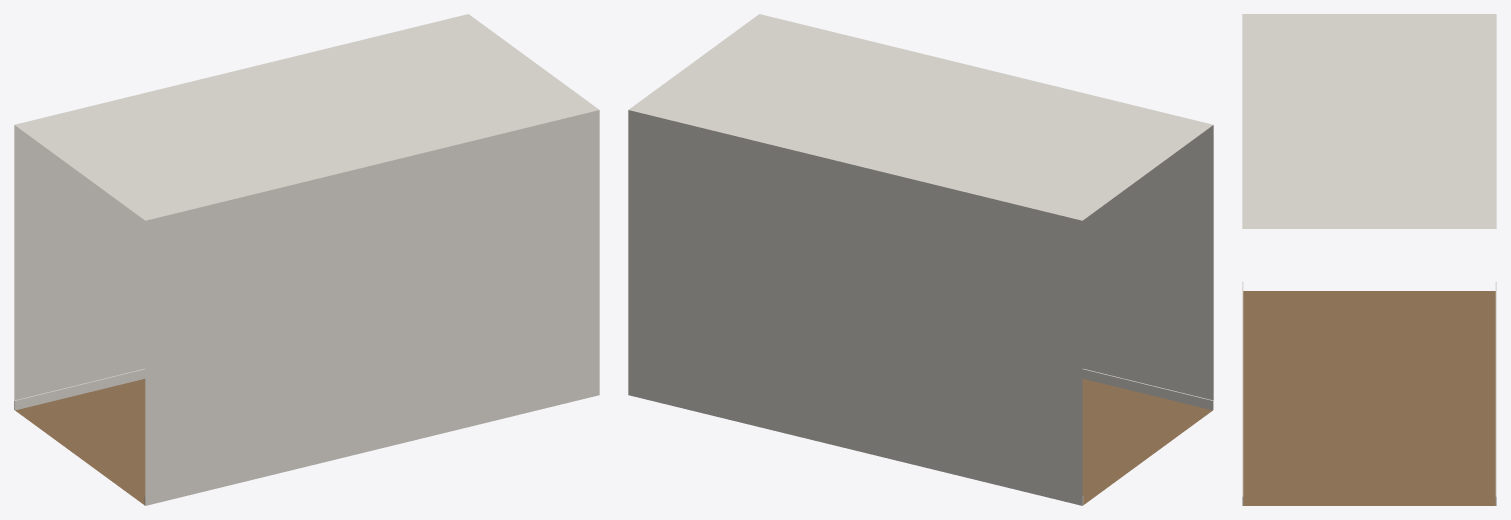
Rendered from rousseau-hall.glb.
The picture shows the model from 3 angles, left to right: view 1: azimuth 30°, elevation 25°; view 2: azimuth 150°, elevation 25°; view 3: azimuth 270°, elevation 25°; orthographic projection. The views are drawn at different scales.
Parts seen in each view (by area): view 1: rousseau-hall; view 2: rousseau-hall; view 3: rousseau-hall.
Boxes of the visible parts, left/top/right/bottom form: rousseau-hall: left=14, top=14, right=599, bottom=505; rousseau-hall: left=628, top=14, right=1213, bottom=505; rousseau-hall: left=1242, top=14, right=1496, bottom=505.
Size of the model in its own units: 6 by 3.6 by 3.
